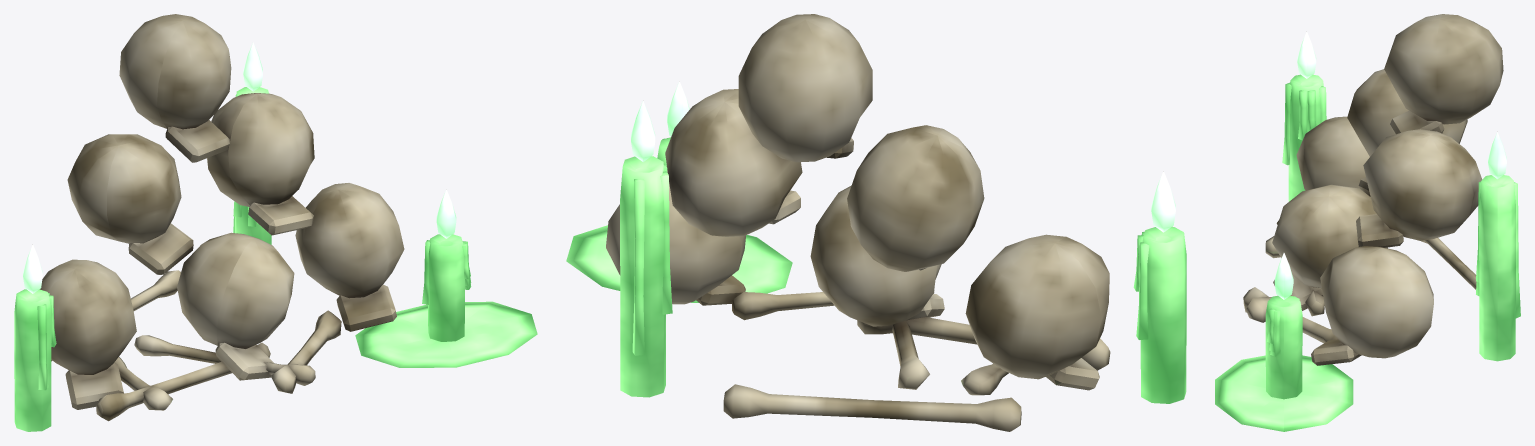
The model's file is Ossuary_Prop_A.fbx.
The picture shows the model from 3 angles, left to right: view 1: azimuth 30°, elevation 25°; view 2: azimuth 150°, elevation 25°; view 3: azimuth 270°, elevation 25°; orthographic projection. The views are drawn at different scales.
Parts seen in each view (by area): view 1: Ossuary_Prop_A; view 2: Ossuary_Prop_A; view 3: Ossuary_Prop_A.
Part boxes in pixels (x1,y1,x2,y2): Ossuary_Prop_A: [14, 14, 537, 431]; Ossuary_Prop_A: [566, 14, 1186, 431]; Ossuary_Prop_A: [1215, 14, 1520, 431].
Size of the model in its own units: 1.23 by 0.708 by 0.6738.
